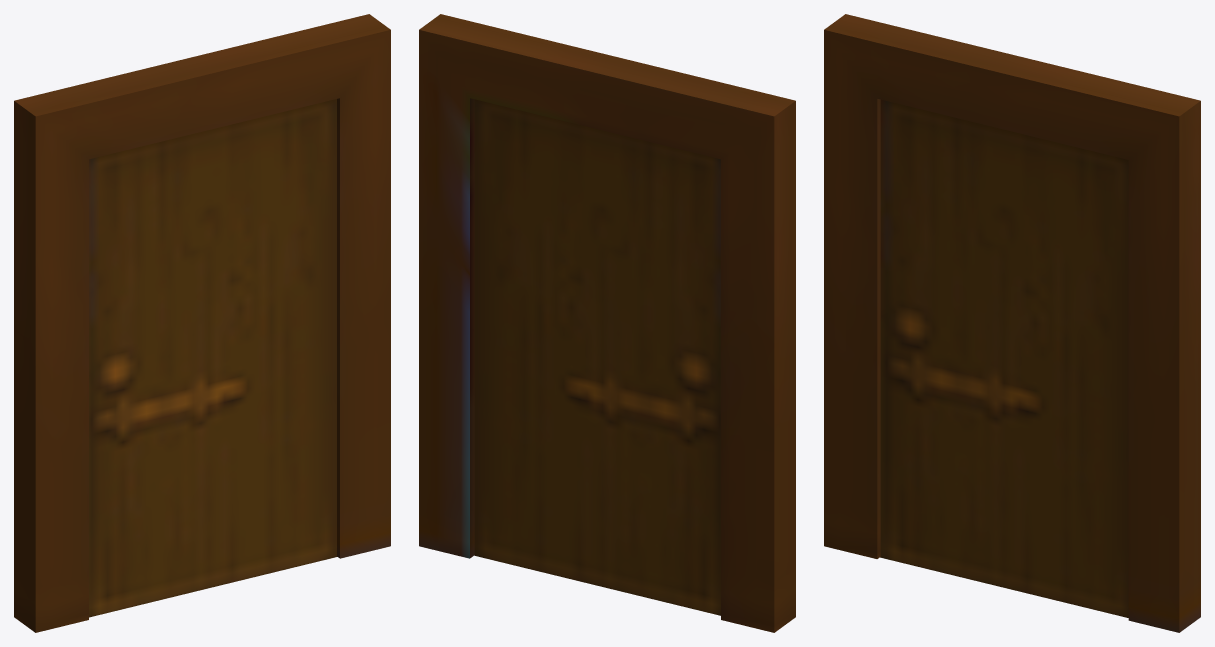
The model's file is Door002.gltf.
The picture shows the model from 3 angles, left to right: view 1: azimuth 30°, elevation 25°; view 2: azimuth 150°, elevation 25°; view 3: azimuth 330°, elevation 25°; orthographic projection.
Parts seen in each view (by area): view 1: Door002; view 2: Door002; view 3: Door002.
Boxes of the visible parts, <box> form: Door002: <box>14,14,390,632</box>; Door002: <box>419,14,795,632</box>; Door002: <box>824,14,1200,632</box>.
Bounding box in the file's own units: 51.54 × 71.69 × 5.42.
Materials: 1 (1 with a texture image).
